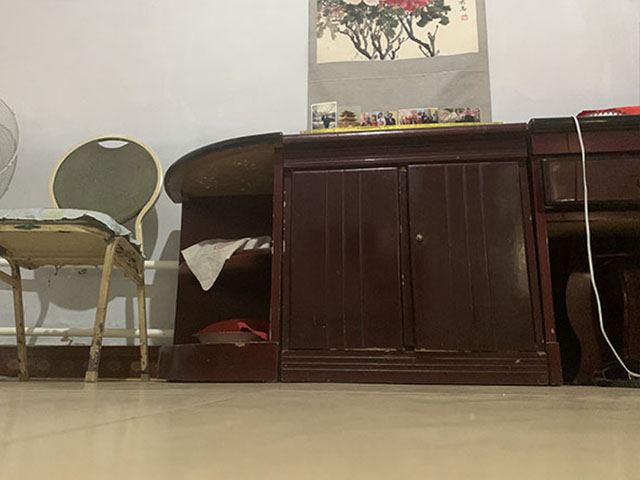cabinet: (165, 117, 552, 380)
stool: (1, 132, 162, 386)
wire: (570, 111, 640, 382)
